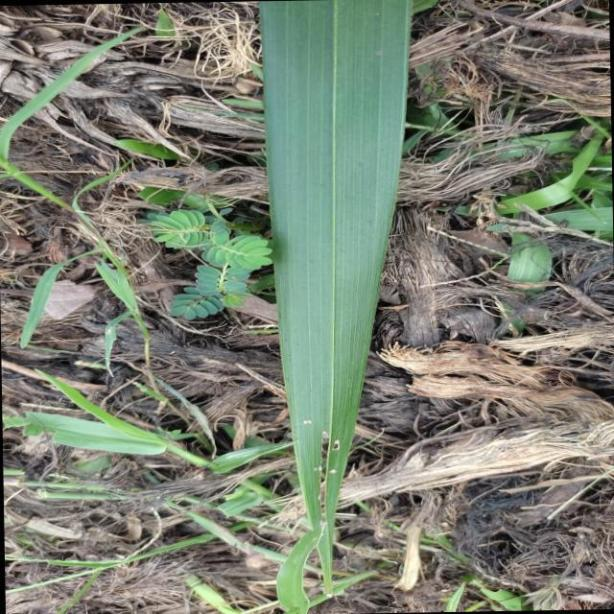Boron: (256, 0, 409, 614)
